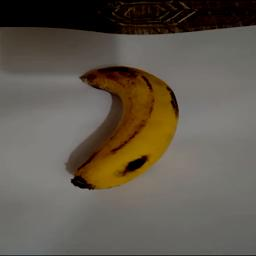Banana Unripe: (72, 66, 182, 188)
